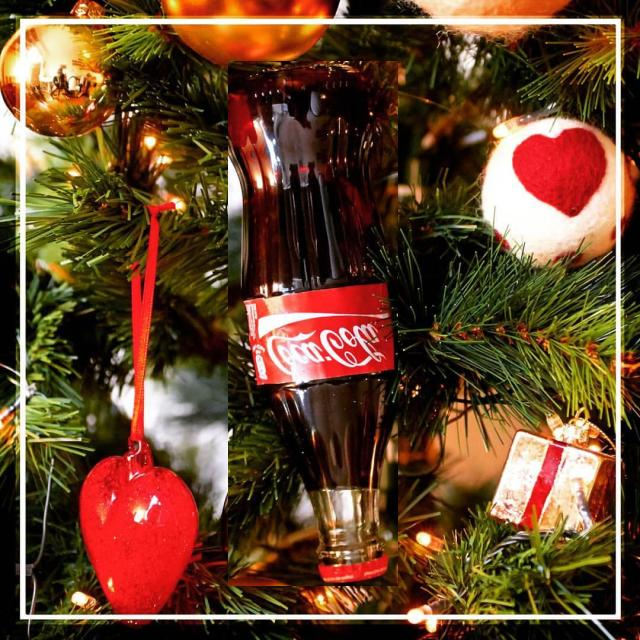coca-cola: (228, 61, 398, 586)
